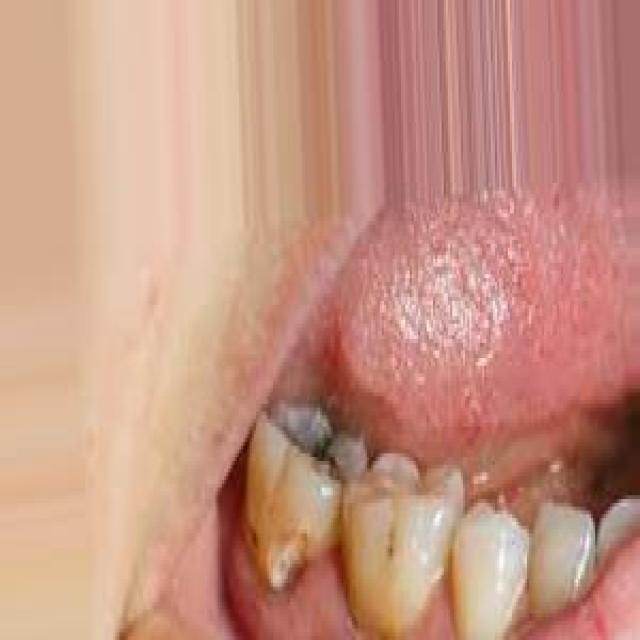caries: (256, 386, 364, 501), (256, 509, 324, 603)
